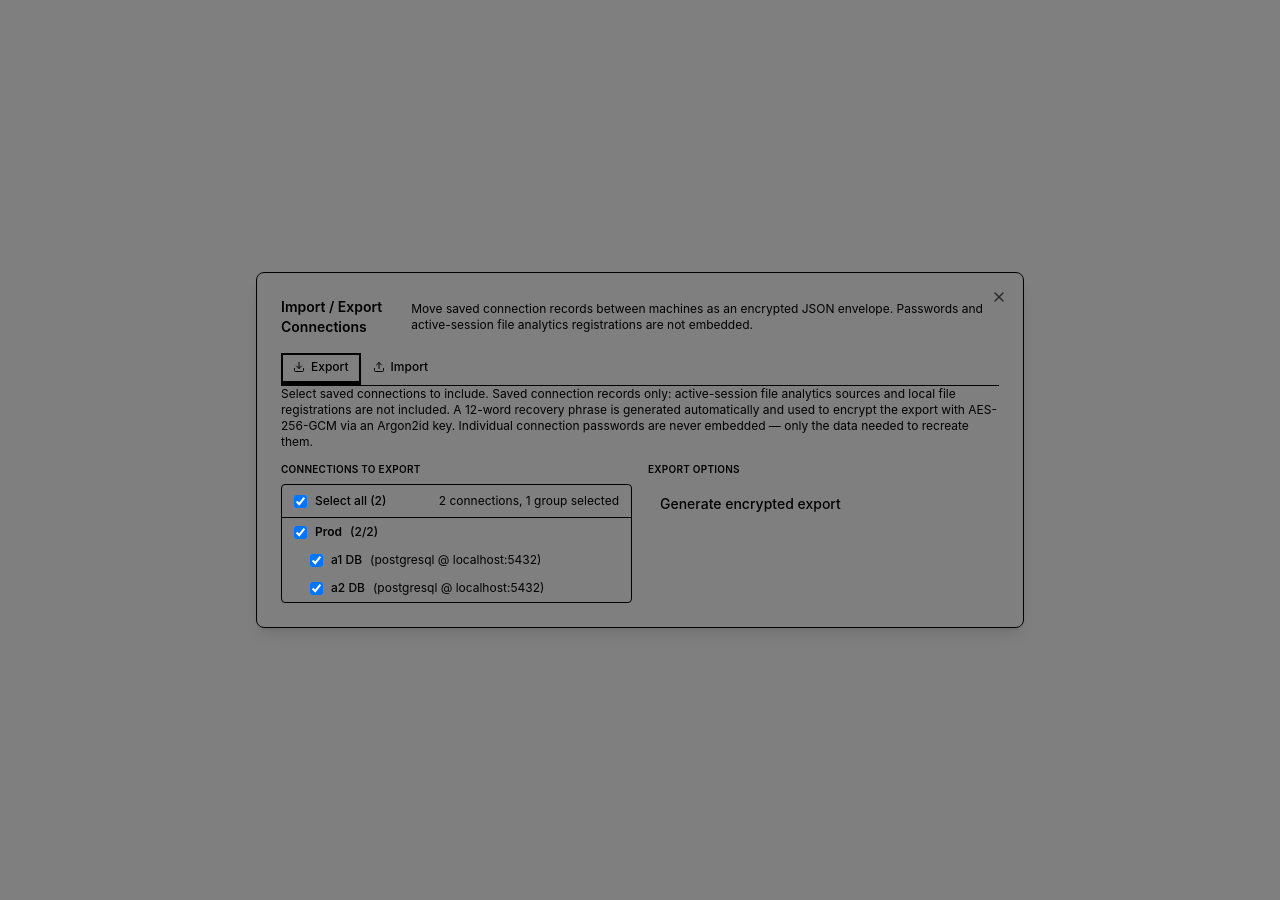
ImportExportDialog — AC-149-* regression locks › AC-149-3: partial group selection shows 'N connections, 0 groups selected' and the group checkbox reports aria-checked=mixed
The width and height of the screenshot is (1280, 900).
// Clear default-all so Prod becomes empty, then check just one child.
Click the checkbox labelled "Select all (2)": (300, 501) top-left (294, 494), bottom-right (307, 508)
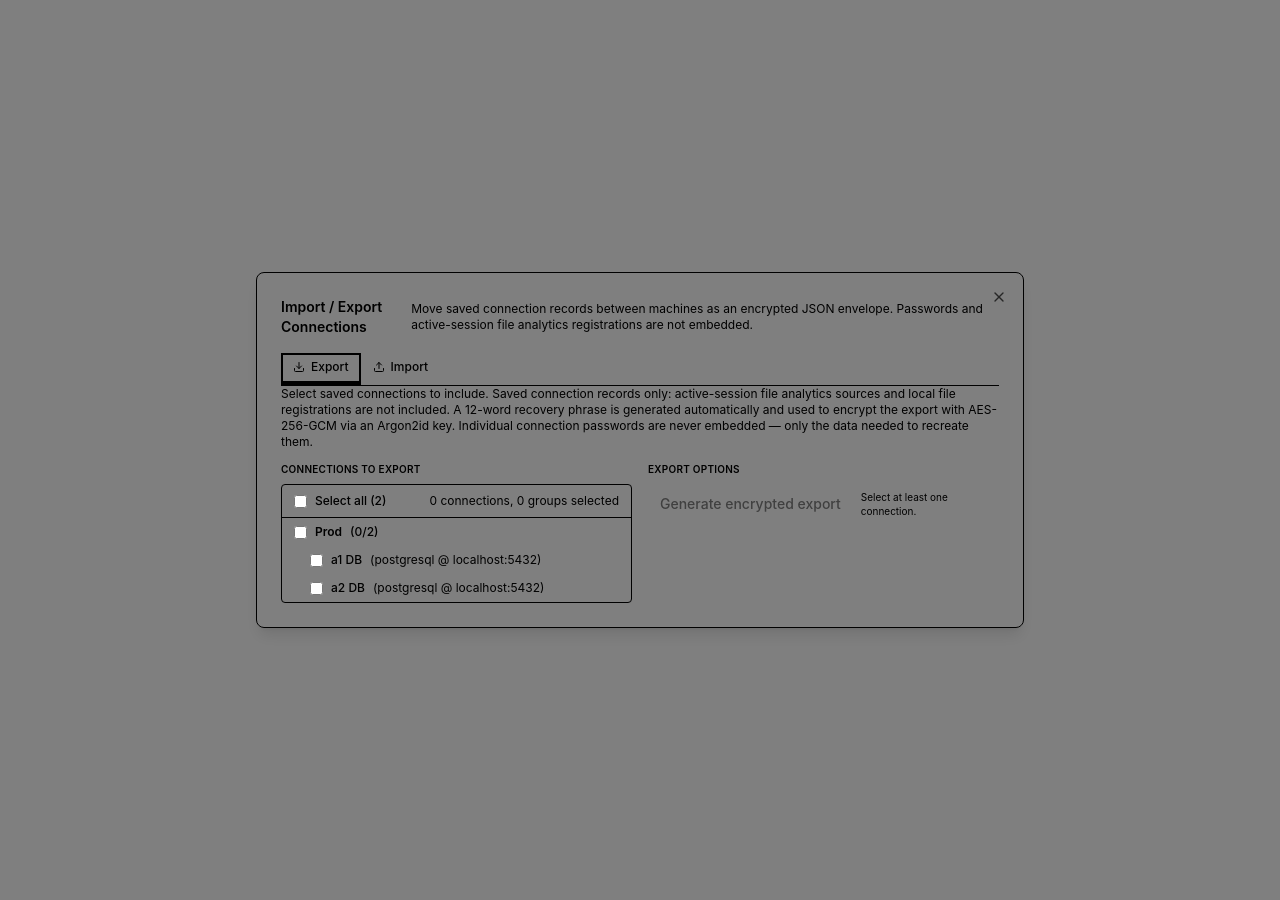
Click the checkbox labelled "a1 DB (postgresql @ localhost:5432)": (316, 560) top-left (310, 554), bottom-right (323, 566)
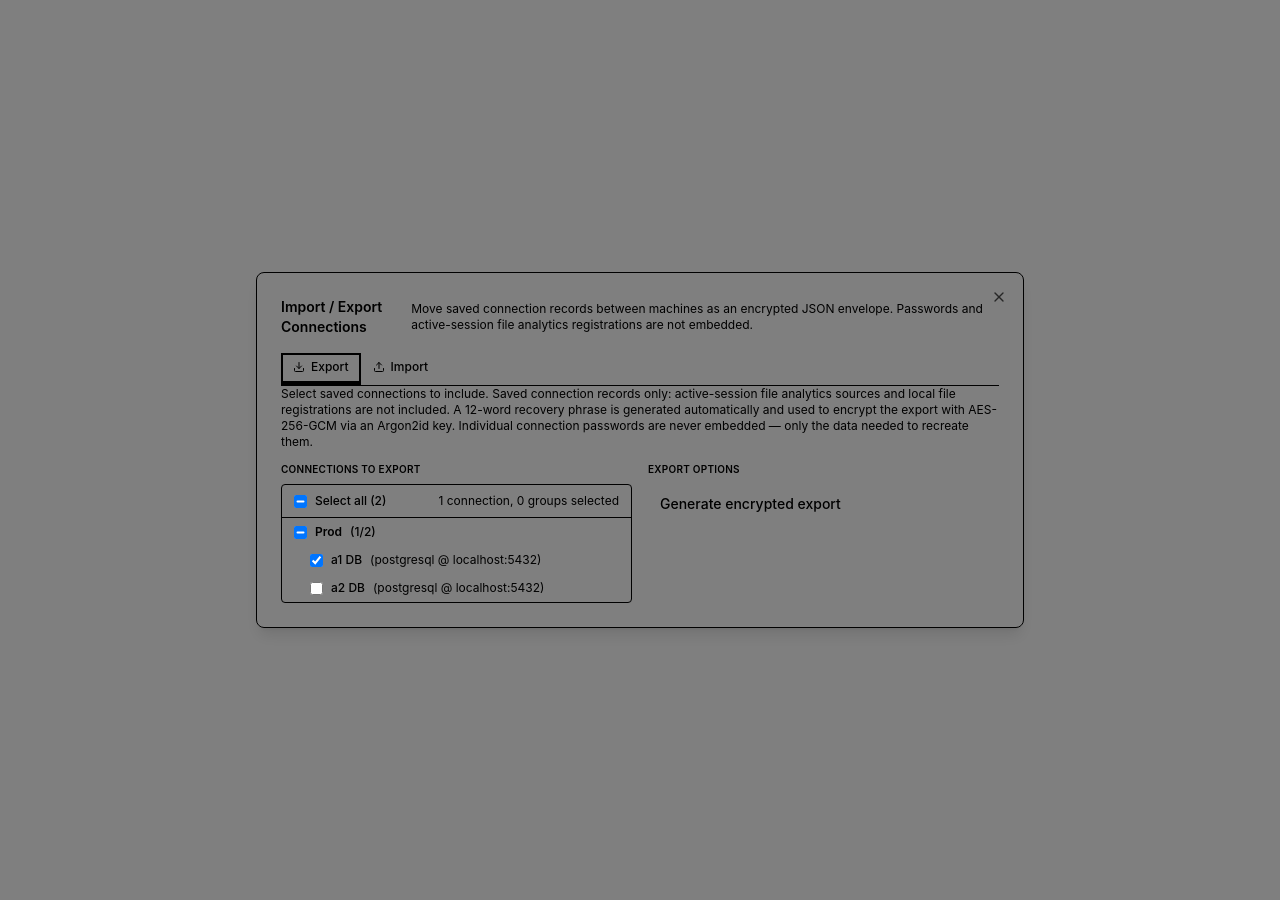
Expected: the text "1 connection, 0 groups selected" is shown, top-left (438, 493), bottom-right (619, 509)
